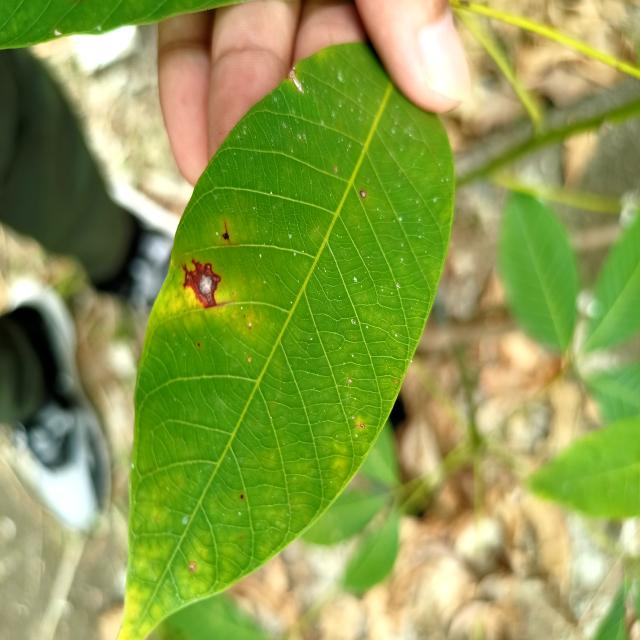Colletotrichum: (359, 190, 366, 198)
Corynespora: (222, 221, 232, 246)
